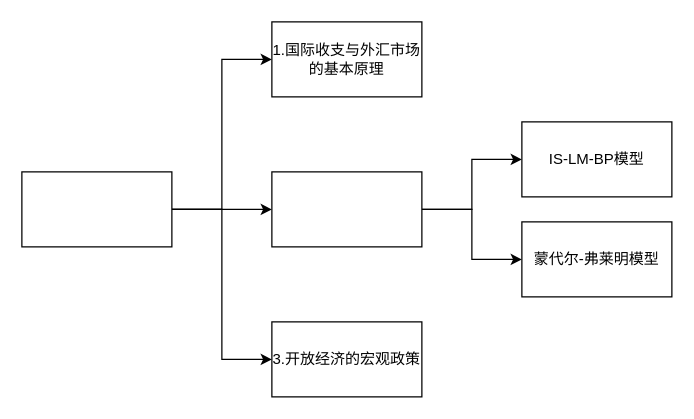
This 694x419 diagram has some shape labels left out. The box of each missing label's shape, as (x1, y1, x2, y2) in pixels:
2.开放的宏观经济模型: (271, 171, 422, 247)
开放的宏观经济模型: (21, 171, 172, 247)
